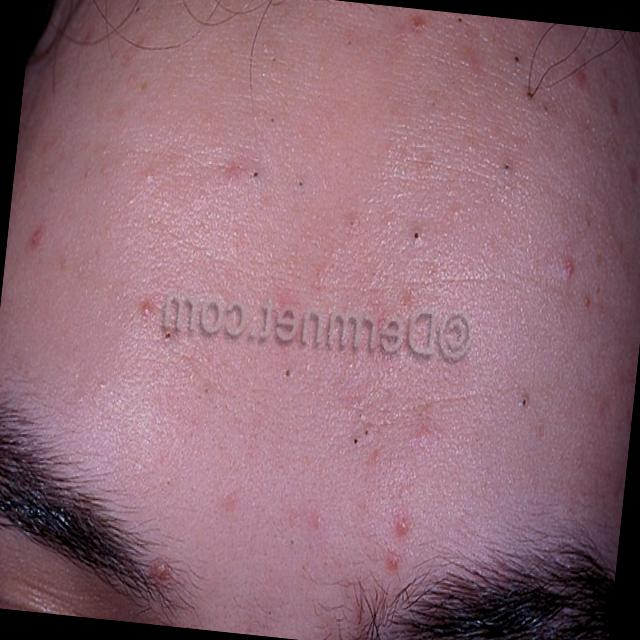blackhead: (583, 296, 591, 308), (285, 368, 290, 378), (164, 332, 170, 340), (364, 428, 369, 436), (134, 6, 140, 12), (514, 55, 519, 62), (414, 232, 419, 239), (353, 438, 358, 445), (543, 105, 548, 112), (522, 398, 526, 406), (504, 164, 509, 170), (290, 539, 294, 546), (358, 413, 362, 419), (457, 18, 462, 22), (204, 388, 208, 393), (268, 610, 272, 615), (270, 118, 274, 122), (166, 480, 170, 484), (272, 57, 276, 61), (299, 182, 302, 186), (254, 172, 257, 176), (348, 40, 351, 44)
